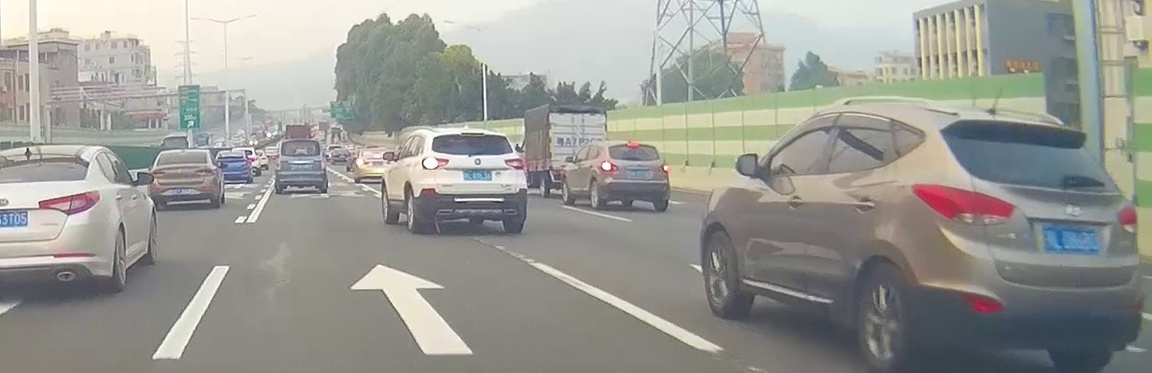L_light: (910, 184, 1015, 226), (422, 158, 449, 170), (601, 162, 618, 172), (152, 172, 165, 176)
R_light: (1116, 203, 1137, 233), (506, 159, 525, 170), (196, 169, 212, 173), (661, 164, 668, 173)
T_light: (1018, 131, 1054, 136), (461, 133, 483, 136), (628, 144, 639, 147), (179, 153, 190, 155)
day-brake: (599, 142, 670, 211)
day-left: (419, 130, 527, 233)
day-no: (908, 115, 1141, 373), (148, 150, 216, 208)
